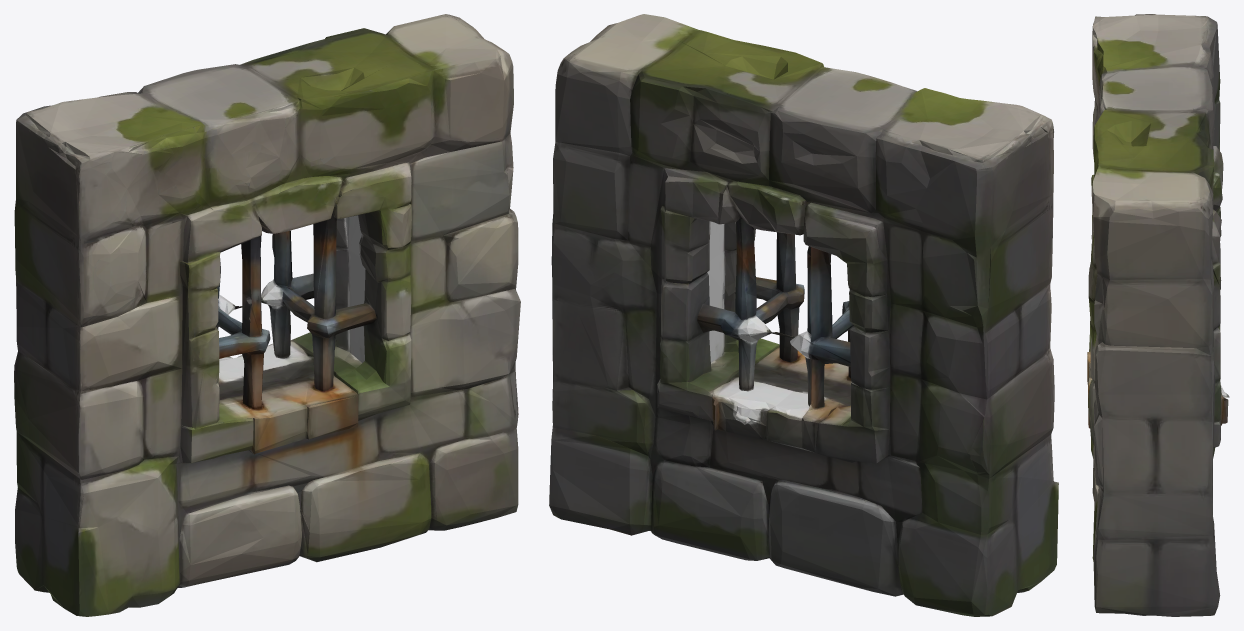
Rendered from wall_grate.glb.
3 views of the same model, side by side, from view 1: azimuth 30°, elevation 25°; view 2: azimuth 150°, elevation 25°; view 3: azimuth 270°, elevation 25° (orthographic). The views are drawn at different scales.
Parts seen in each view (by area): view 1: world; view 2: world; view 3: world.
Boxes of the visible parts, box(x1,y1,x2,y2) form: world: box(14, 14, 520, 616); world: box(549, 14, 1058, 616); world: box(1087, 14, 1229, 616).
Size of the model in its own units: 0.9842 by 0.9948 by 0.3044.
Materials: 1 (1 with a texture image).
